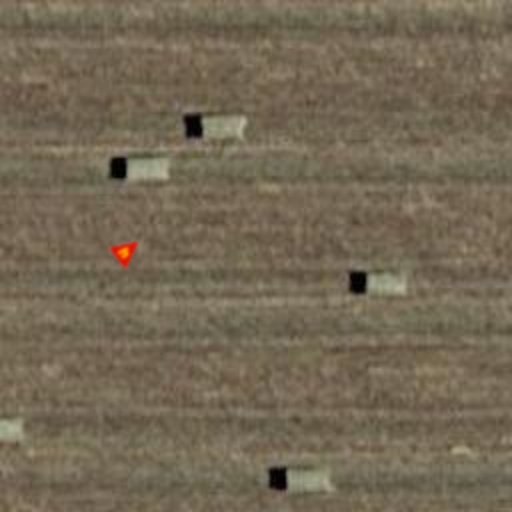triangle: (108, 230, 148, 270)
